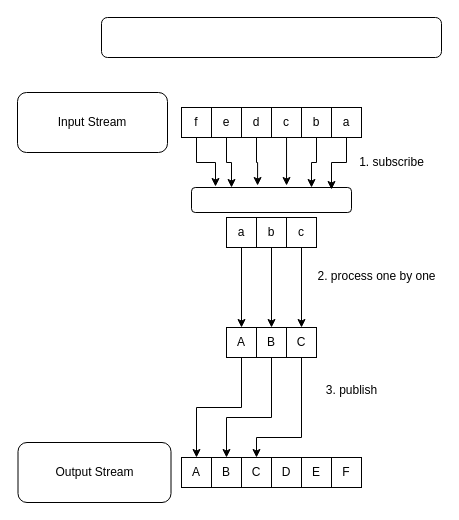
Some shapes in this 459 by 520 pixel diagram are drawn without their labels. Here are the shapes that lost their labels. From the top down, the centre of each, then its label:
(x=271, y=37): Stream Processing
(x=271, y=199): Stream Application
